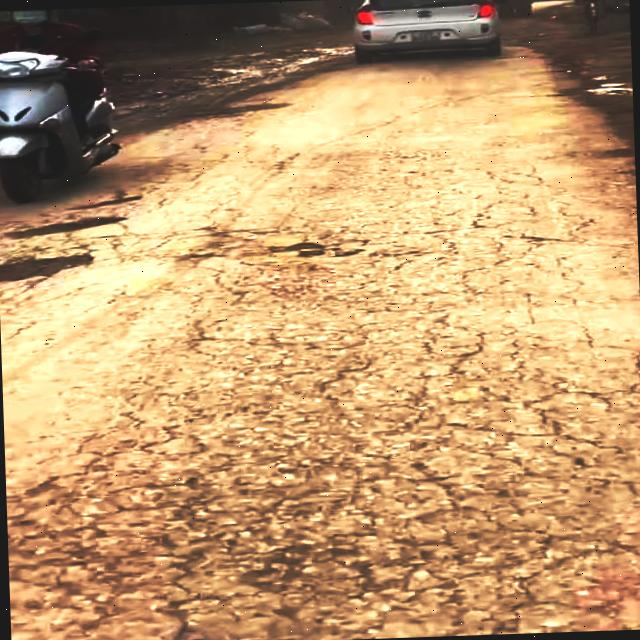pothole: (0, 212, 124, 241), (0, 249, 101, 282)
